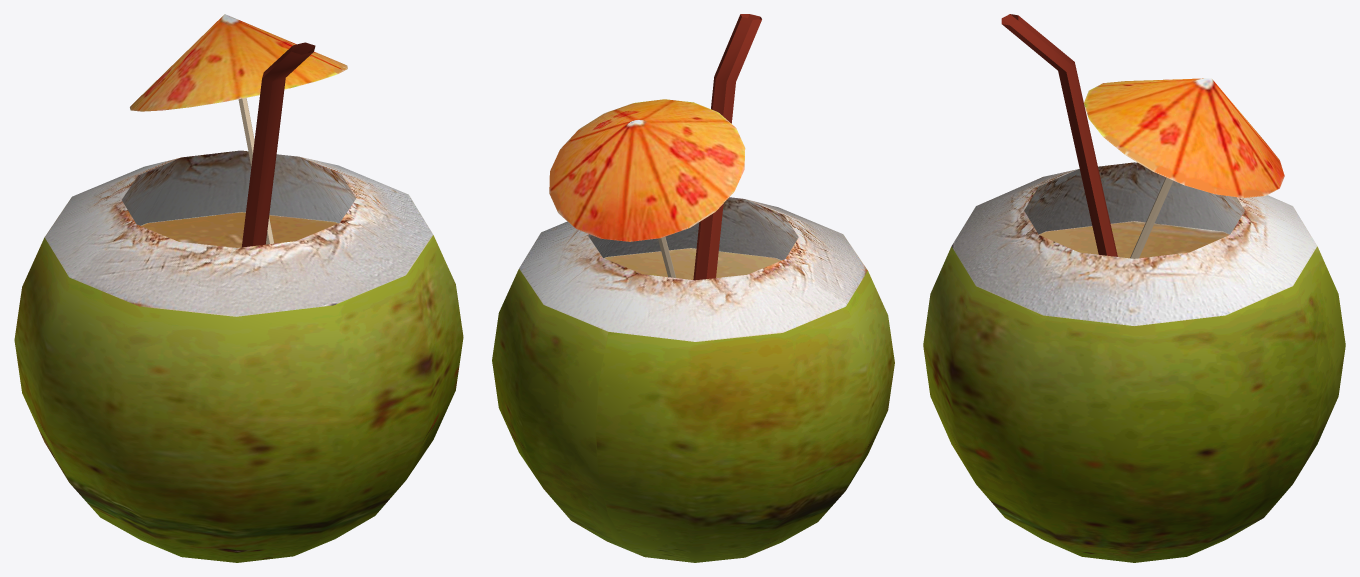
The model's file is coconut_drink.gltf.
The picture shows the model from 3 angles, left to right: view 1: azimuth 30°, elevation 25°; view 2: azimuth 150°, elevation 25°; view 3: azimuth 270°, elevation 25°; orthographic projection. The views are drawn at different scales.
Parts seen in each view (by area): view 1: CoconutDrink; view 2: CoconutDrink; view 3: CoconutDrink.
Boxes of the visible parts, x1=… form: CoconutDrink: x1=14, y1=14, x2=463, y2=562; CoconutDrink: x1=492, y1=14, x2=894, y2=562; CoconutDrink: x1=923, y1=14, x2=1345, y2=562.
Bounding box in the file's own units: 0.0186 × 0.0246 × 0.0179.
Materials: 1 (1 with a texture image).
